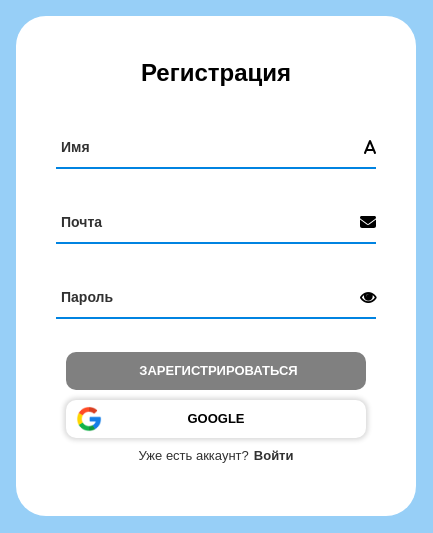
Test: Блокировка кнопки 'Регистрация' › Email валидный, password - нет => кнопка задизейблина
This screenshot has width=433, height=533.
In the field with test id "emailInput": (208, 222) [56,202,360,242], type "test@gmail.com"
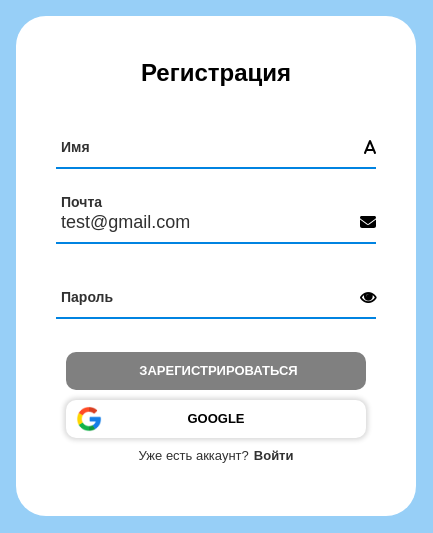
In the password field with test id "passwordInput": (208, 297) [56,277,360,317], type "pass"
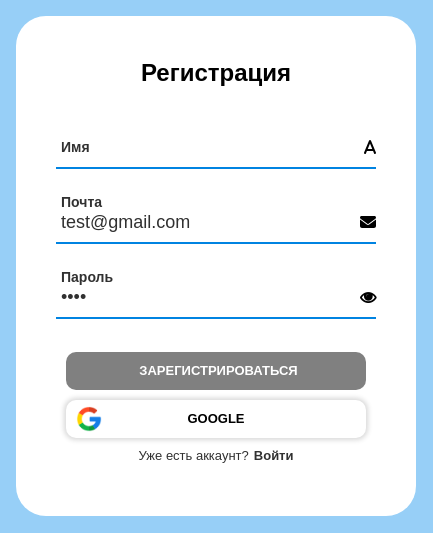
Press Tab
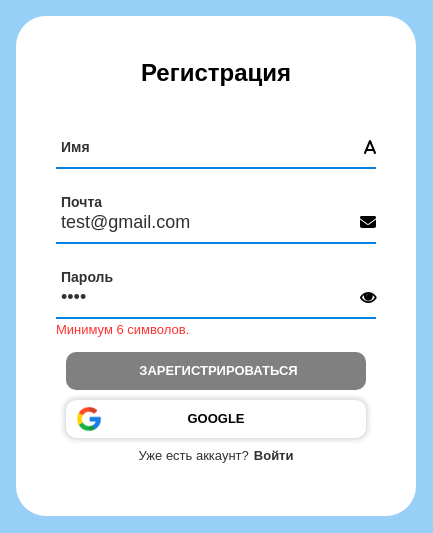
Check: the button with test id "register-button" is disabled, box [66,352,366,390]
Check: the text "Минимум 6 символов." is shown, box [56,322,189,337]
